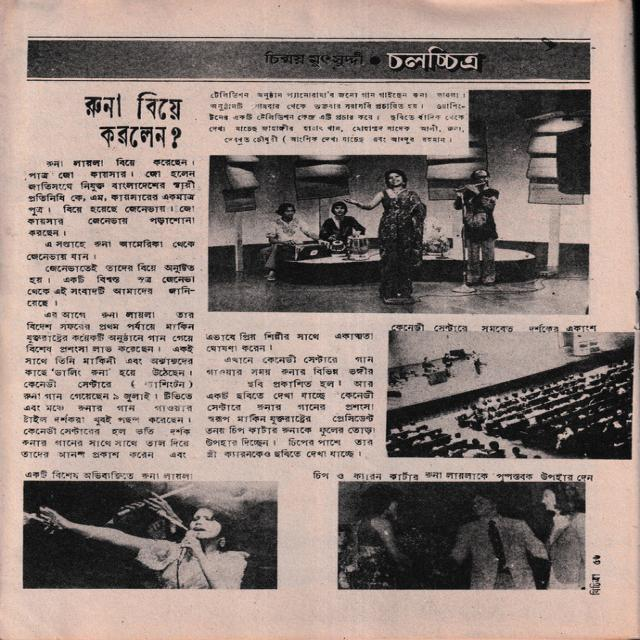caption: (313, 470, 593, 482), (388, 320, 597, 331), (25, 470, 193, 481)
image: (208, 90, 590, 314), (387, 332, 634, 458), (24, 482, 277, 588), (338, 482, 585, 589)
page number: (592, 555, 600, 565)
paragraph: (17, 310, 198, 460), (207, 90, 467, 148), (25, 156, 202, 237), (203, 379, 377, 461), (25, 264, 199, 307), (25, 238, 195, 264), (203, 354, 374, 377), (203, 331, 376, 353)
text: (264, 50, 365, 68), (588, 574, 600, 594)
title: (82, 91, 182, 148), (387, 46, 479, 71)
